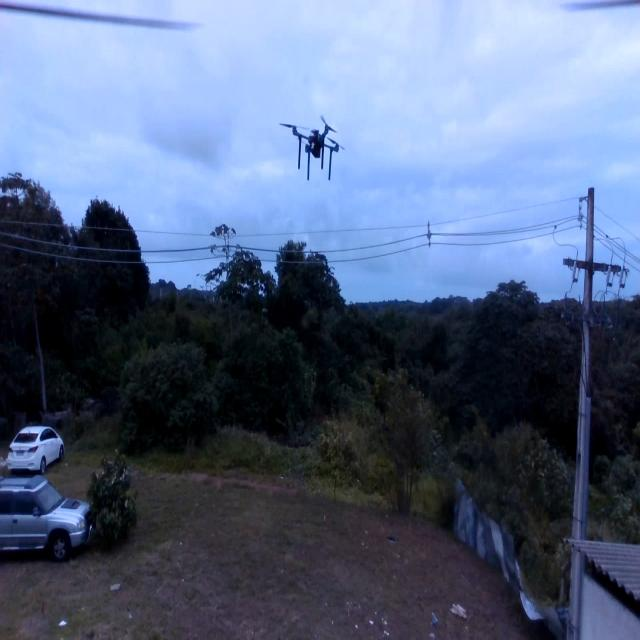-uav-: (278, 99, 350, 194)
